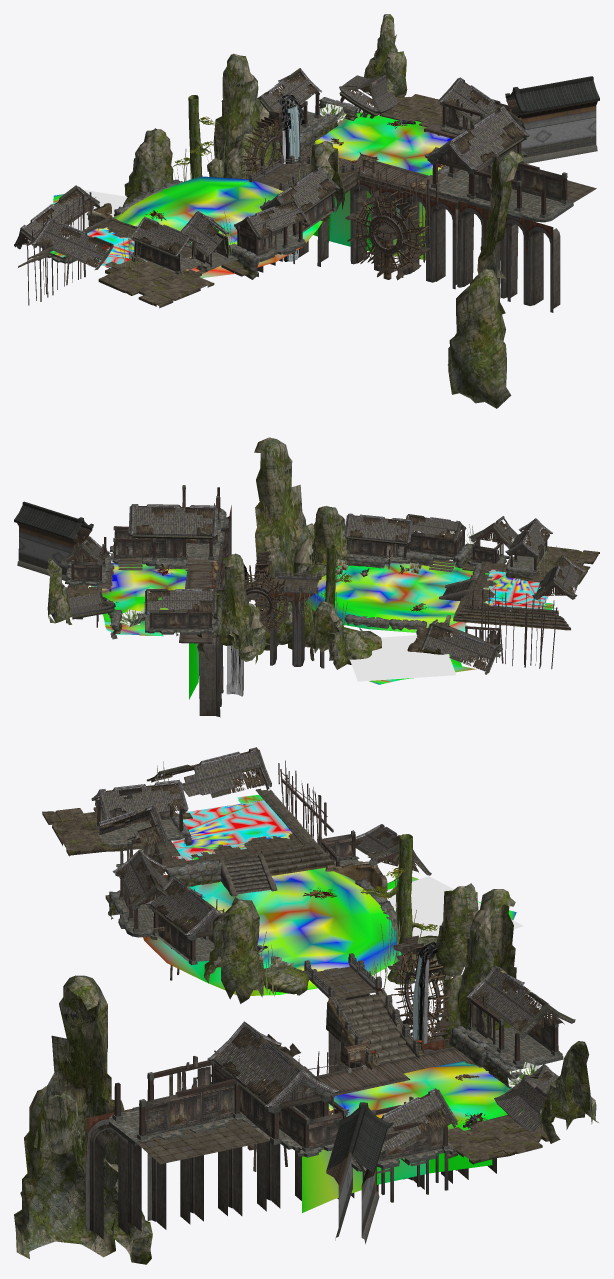
The picture shows the model from 3 angles, top to bottom: view 1: azimuth 30°, elevation 25°; view 2: azimuth 150°, elevation 25°; view 3: azimuth 270°, elevation 25°; orthographic projection. The views are drawn at different scales.
Visible parts, largest first — view 1: rock_yewai02, yewai_guanqia01_part02 (×2), xinshoucun_shiqiao03_d, build_sunhuaijianzhu03 (×4), build_yuanluo_wutai4, build_sunhuaijianzhu02 (×4), shuiche_jiaban (×2), yewai_suibidan (×2), part04, c5_pingjieqiang_obj_1, rock_yewai5, build_zhandao (×2) (+12 smaller); view 2: rock_yewai02, yewai_guanqia01_part02 (×2), build_sunhuaijianzhu03 (×5), build_sunhuaijianzhu02 (×4), part04, build_yuanluo_wutai4, xinshoucun_shiqiao03_d, rock_yewai5, water_shuimian01, part02_batched, yewai_shidunzi (×3), Broken_topTX05D_Receive (+16 smaller); view 3: rock_yewai02, yewai_guanqia01_part02 (×2), build_sunhuaijianzhu03 (×5), xinshoucun_shiqiao03_d, build_yuanluo_wutai4, build_sunhuaijianzhu02 (×4), part04, rock_yewai5, Broken_topTX05D_Receive (×2), yewai_suibidan (×2), yewai_1_1, part02_batched (+19 smaller).
Boxes of the visible parts, bbox=[...] form: rock_yewai02: bbox=[207, 14, 524, 408]; yewai_guanqia01_part02 (×2): bbox=[107, 111, 452, 277]; xinshoucun_shiqiao03_d: bbox=[250, 154, 560, 312]; build_sunhuaijianzhu03 (×4): bbox=[236, 94, 573, 261]; build_yuanluo_wutai4: bbox=[31, 211, 239, 274]; build_sunhuaijianzhu02 (×4): bbox=[14, 68, 525, 249]; shuiche_jiaban (×2): bbox=[239, 110, 429, 280]; yewai_suibidan (×2): bbox=[98, 94, 442, 308]; part04: bbox=[424, 105, 529, 202]; c5_pingjieqiang_obj_1: bbox=[509, 105, 597, 163]; rock_yewai5: bbox=[124, 128, 344, 222]; build_zhandao (×2): bbox=[26, 163, 445, 305]; rock_yewai02: bbox=[47, 437, 319, 663]; yewai_guanqia01_part02 (×2): bbox=[91, 561, 488, 699]; build_sunhuaijianzhu03 (×5): bbox=[65, 485, 465, 634]; build_sunhuaijianzhu02 (×4): bbox=[59, 514, 501, 674]; part04: bbox=[128, 504, 220, 565]; build_yuanluo_wutai4: bbox=[440, 516, 585, 657]; xinshoucun_shiqiao03_d: bbox=[199, 505, 324, 717]; rock_yewai5: bbox=[309, 506, 348, 669]; water_shuimian01: bbox=[350, 635, 455, 681]; part02_batched: bbox=[344, 513, 412, 564]; yewai_shidunzi (×3): bbox=[110, 543, 533, 637]; Broken_topTX05D_Receive: bbox=[453, 561, 570, 630]; rock_yewai02: bbox=[14, 889, 598, 1264]; yewai_guanqia01_part02 (×2): bbox=[143, 867, 523, 1212]; build_sunhuaijianzhu03 (×5): bbox=[108, 863, 563, 1171]; xinshoucun_shiqiao03_d: bbox=[85, 953, 496, 1239]; build_yuanluo_wutai4: bbox=[91, 747, 387, 890]; build_sunhuaijianzhu02 (×4): bbox=[112, 824, 575, 1172]; part04: bbox=[207, 1021, 338, 1145]; rock_yewai5: bbox=[203, 883, 478, 1003]; Broken_topTX05D_Receive (×2): bbox=[163, 788, 415, 1062]; yewai_suibidan (×2): bbox=[42, 807, 549, 1164]; yewai_1_1: bbox=[173, 794, 292, 860]; part02_batched: bbox=[146, 876, 221, 965].
Size of what is drawn, in the model's own units: 84.75 by 32.44 by 53.91.
